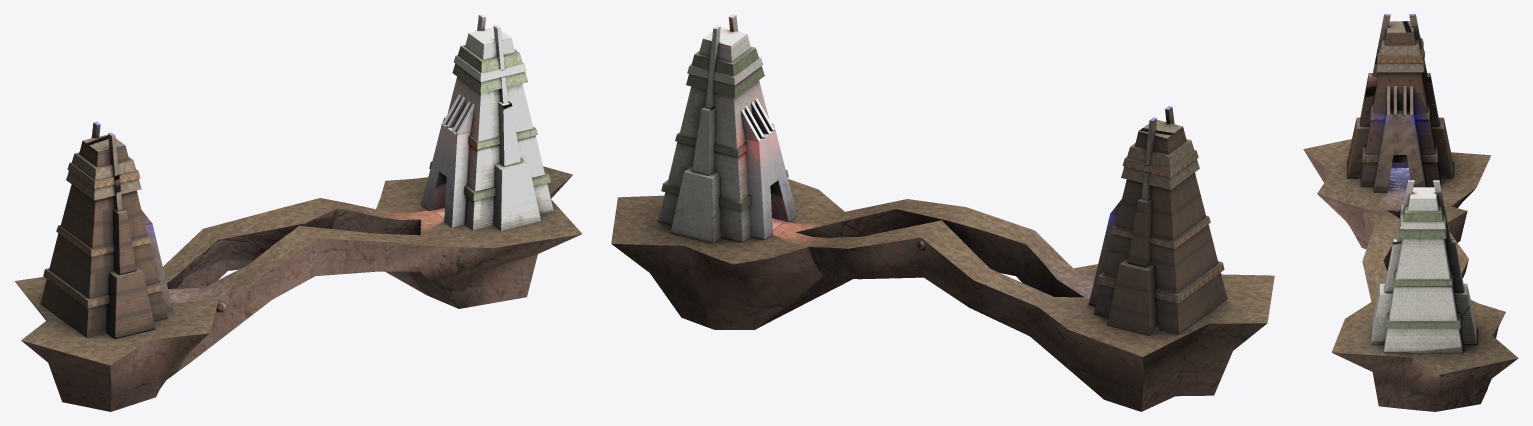
File: FacingWorlds_tex_5.glb
3 views of the same model, side by side, from view 1: azimuth 30°, elevation 25°; view 2: azimuth 150°, elevation 25°; view 3: azimuth 270°, elevation 25° (orthographic). The views are drawn at different scales.
Visible parts, largest first — view 1: TOWER_WHOLE; view 2: TOWER_WHOLE; view 3: TOWER_WHOLE.
Boxes of the visible parts, bbox=[...] form: TOWER_WHOLE: bbox=[14, 14, 581, 411]; TOWER_WHOLE: bbox=[611, 14, 1274, 411]; TOWER_WHOLE: bbox=[1303, 14, 1518, 411].
Bounding box in the file's own units: 259 × 110 × 97.24.
Materials: 1 (1 with a texture image).
